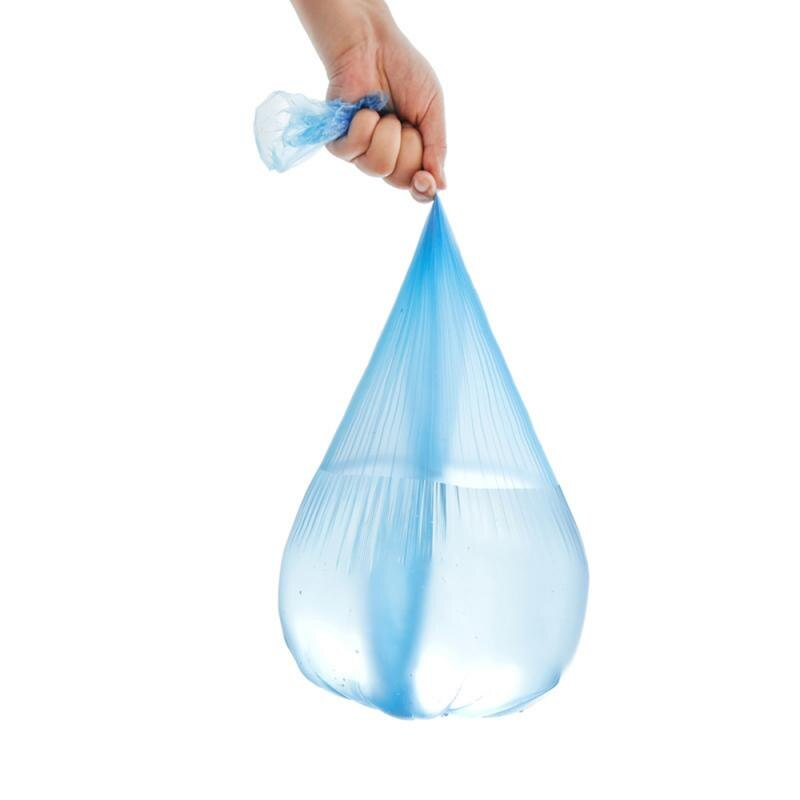plastic_bagwdw: (177, 50, 712, 798)
